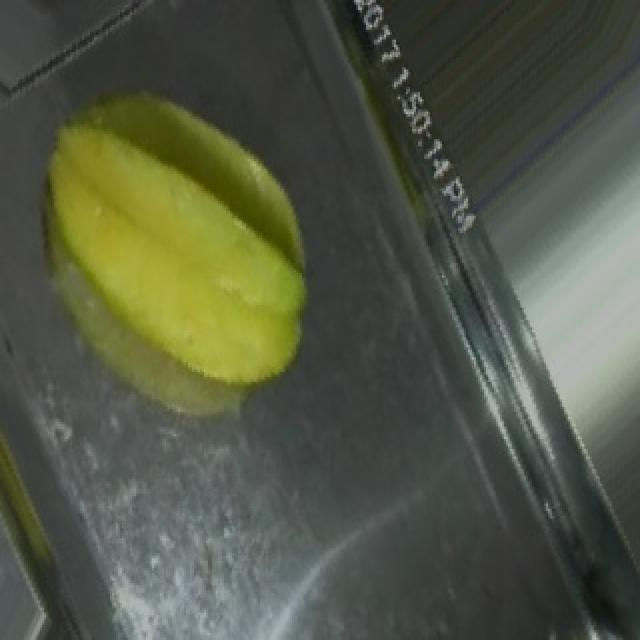fruit: (4, 44, 368, 447)
